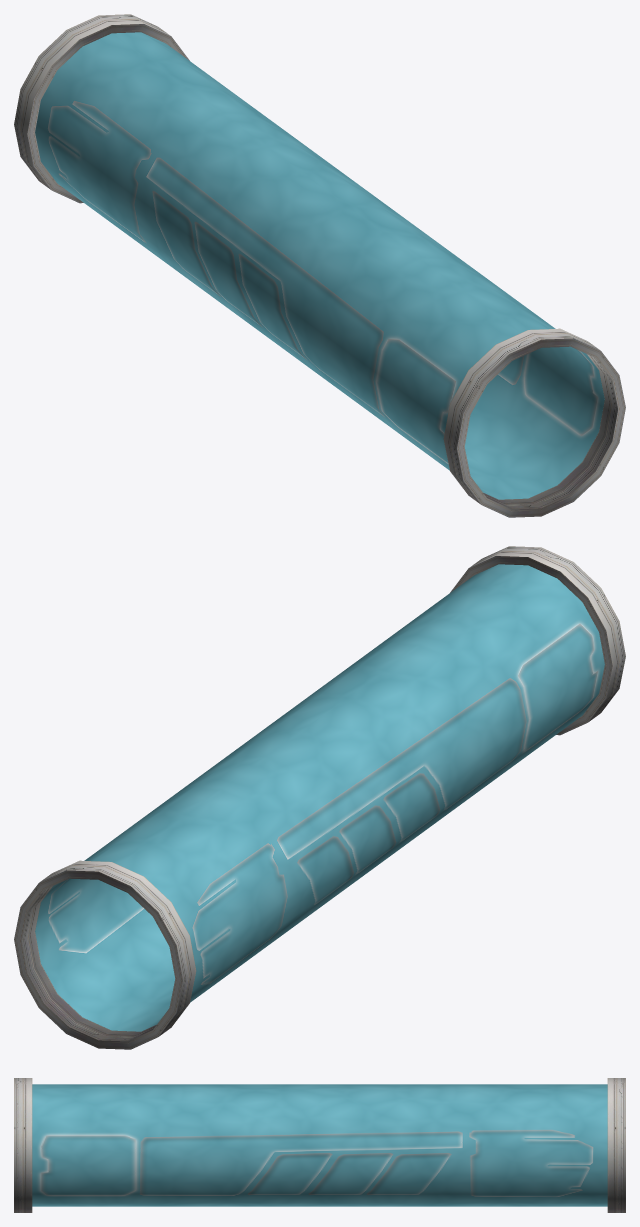
The model's file is XTubeStraight.DAE.
3 views of the same model, one above another, from view 1: azimuth 30°, elevation 25°; view 2: azimuth 150°, elevation 25°; view 3: azimuth 270°, elevation 25° (orthographic). The views are drawn at different scales.
Parts seen in each view (by area): view 1: A3D_Glass, HighRiseD; view 2: A3D_Glass, HighRiseD; view 3: A3D_Glass, HighRiseD.
Boxes of the visible parts, x1=… form: A3D_Glass: x1=35, y1=32, x2=604, y2=499; HighRiseD: x1=14, y1=14, x2=625, y2=517; A3D_Glass: x1=35, y1=564, x2=604, y2=1031; HighRiseD: x1=14, y1=546, x2=625, y2=1049; A3D_Glass: x1=32, y1=1084, x2=607, y2=1206; HighRiseD: x1=14, y1=1078, x2=625, y2=1212.
Size of the model in its own units: 4.41 by 20 by 4.41.
